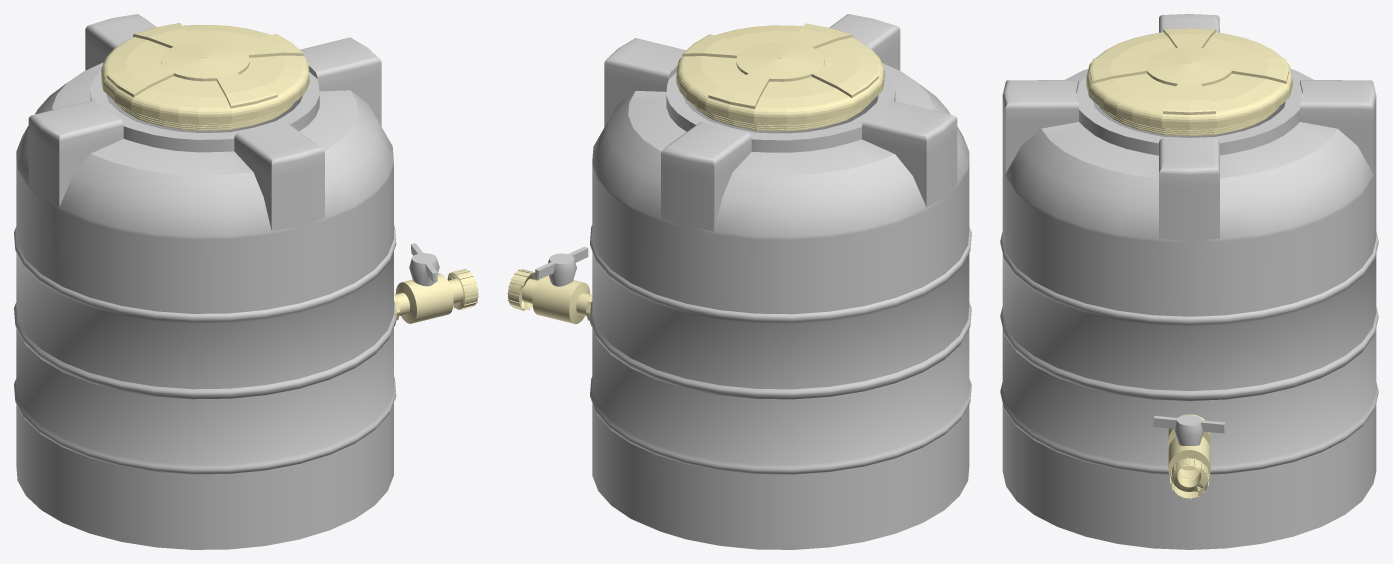
Rendered from Tank.fbx.
The picture shows the model from 3 angles, left to right: view 1: azimuth 30°, elevation 25°; view 2: azimuth 150°, elevation 25°; view 3: azimuth 270°, elevation 25°; orthographic projection.
Parts seen in each view (by area): view 1: Cylinder, Cylinder.001, Cylinder.003, Cylinder.004; view 2: Cylinder, Cylinder.001, Cylinder.003, Cylinder.004; view 3: Cylinder, Cylinder.001, Cylinder.003, Cylinder.004.
Boxes of the visible parts, bbox=[...] form: Cylinder: bbox=[14, 14, 396, 549]; Cylinder.001: bbox=[101, 23, 309, 130]; Cylinder.003: bbox=[394, 268, 478, 323]; Cylinder.004: bbox=[409, 243, 439, 286]; Cylinder: bbox=[590, 14, 971, 549]; Cylinder.001: bbox=[676, 23, 884, 131]; Cylinder.003: bbox=[507, 269, 591, 324]; Cylinder.004: bbox=[535, 246, 588, 286]; Cylinder: bbox=[1000, 14, 1378, 549]; Cylinder.001: bbox=[1086, 28, 1292, 136]; Cylinder.003: bbox=[1168, 436, 1210, 499]; Cylinder.004: bbox=[1153, 415, 1225, 445].
Size of the model in its own units: 1207 by 1113 by 931.
